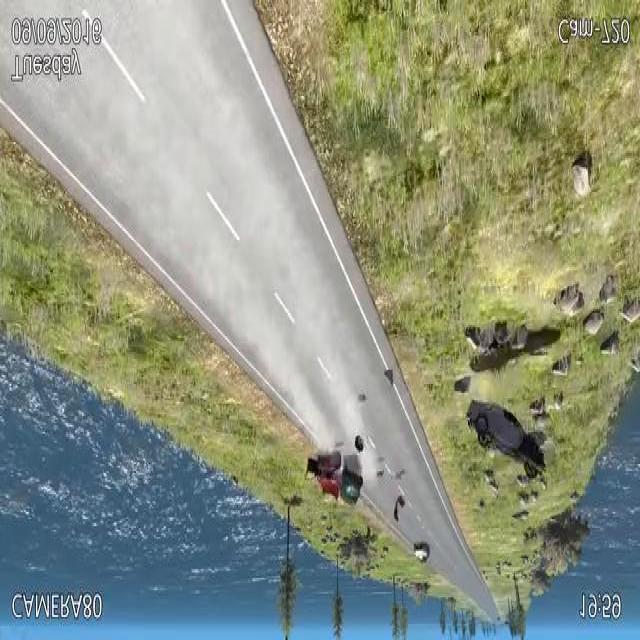moderate: (304, 449, 363, 508)
